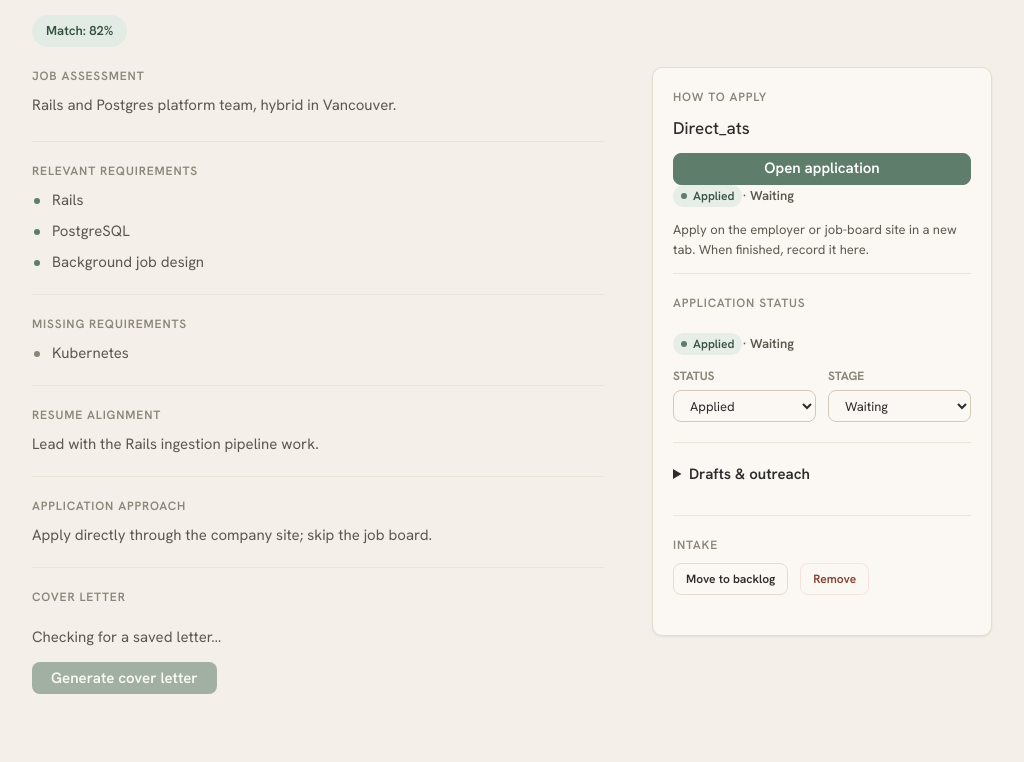
it: job detail intake controls › uses the expired-session copy on a 401
The width and height of the screenshot is (1024, 762).
(page scrolled)
Click the button "Move to backlog": (731, 579) top-left (673, 563), bottom-right (788, 595)
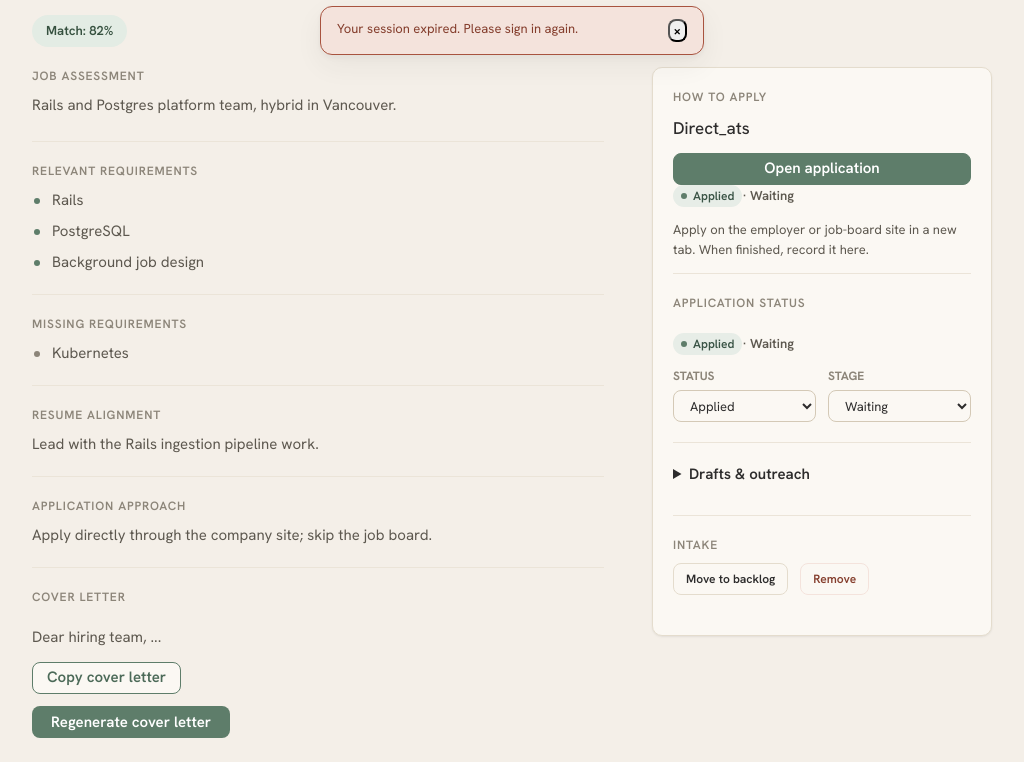
Expected: the text "Your session expired. Please sign in again." is shown, top-left (337, 20), bottom-right (578, 37)
